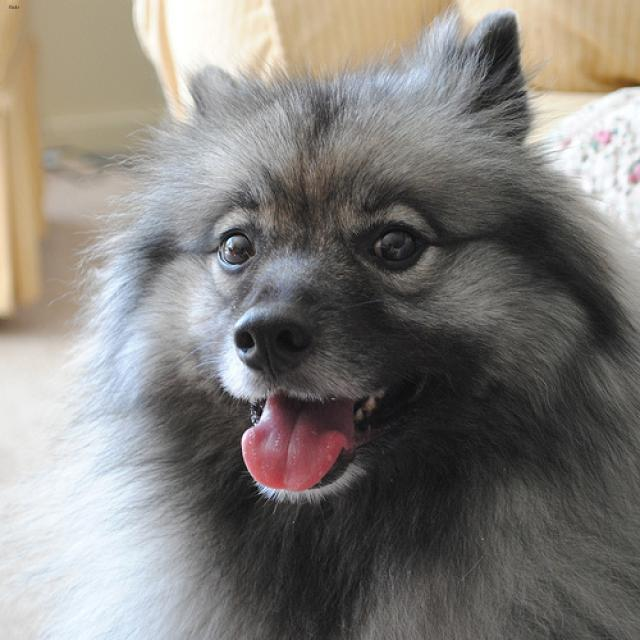dog-keeshond: (1, 1, 637, 637)
